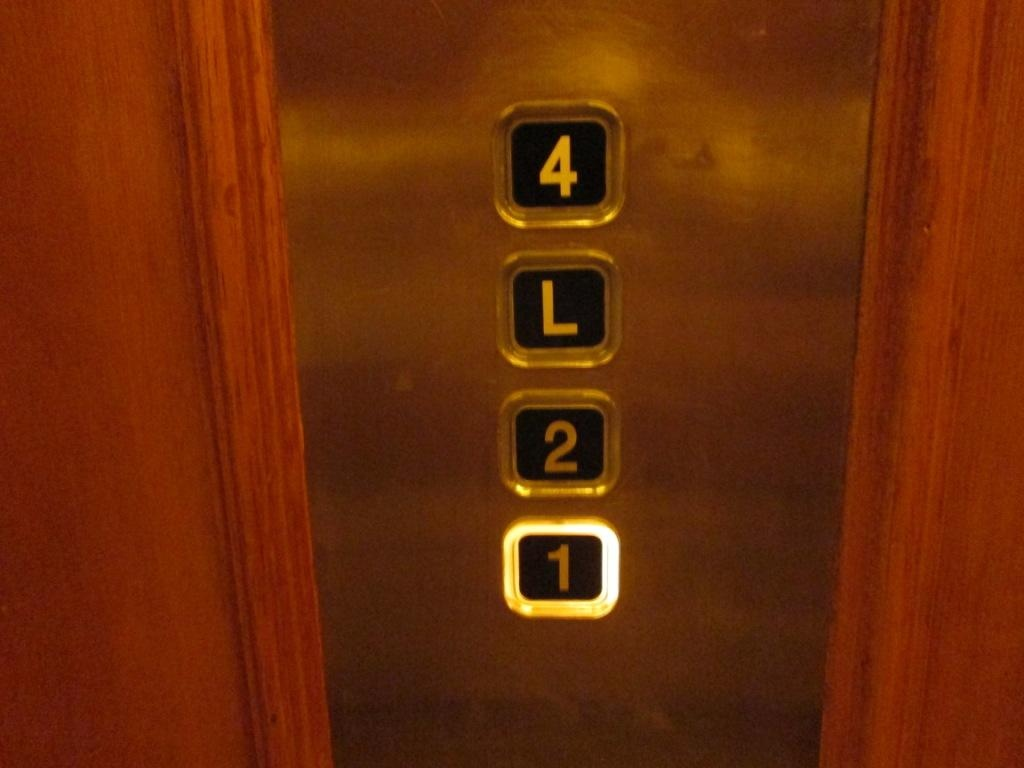1: (501, 516, 621, 624)
2: (495, 385, 624, 500)
4: (492, 97, 628, 231)
L: (497, 247, 625, 370)
